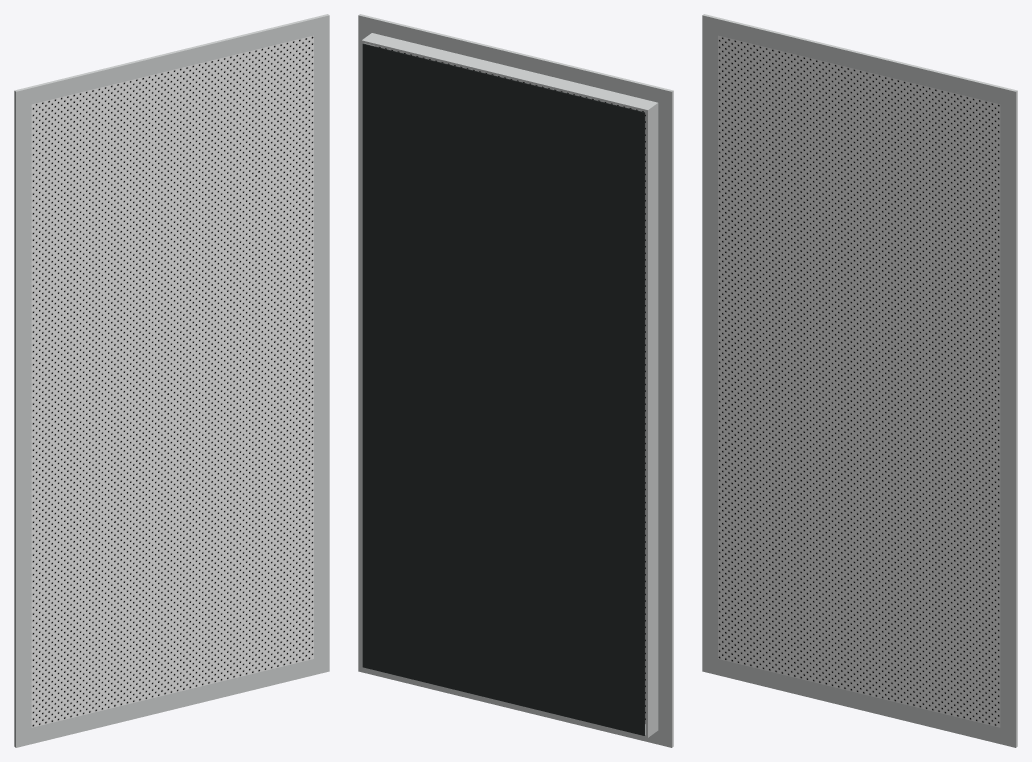
Rendered from ecoclima-egfr-300x600.glb.
3 views of the same model, side by side, from view 1: azimuth 30°, elevation 25°; view 2: azimuth 150°, elevation 25°; view 3: azimuth 330°, elevation 25° (orthographic).
Parts seen in each view (by area): view 1: Profile_lamiera_forata.001, Profile_cornice.115, Profile_cornice.116, Profile_cornice.113, Profile_cornice.114; view 2: Interno.032, Profile_cornice.115, Profile_ritorno.122, Profile_cornice.113, Profile_ritorno.120, Profile_cornice.116, Profile_cornice.114, Profile_ritorno.123, Profile_lamiera_forata.001, Profile_ritorno.121; view 3: Profile_lamiera_forata.001, Profile_cornice.116, Profile_cornice.115, Profile_cornice.113, Profile_cornice.114.
Boxes of the visible parts, box(x1,y1,x2,y2) form: Profile_lamiera_forata.001: box(31, 35, 313, 727); Profile_cornice.115: box(14, 104, 31, 731); Profile_cornice.116: box(314, 32, 329, 658); Profile_cornice.113: box(14, 14, 329, 107); Profile_cornice.114: box(14, 655, 329, 747); Interno.032: box(362, 43, 645, 735); Profile_cornice.115: box(658, 105, 673, 731); Profile_ritorno.122: box(646, 105, 658, 735); Profile_cornice.113: box(358, 14, 673, 107); Profile_ritorno.120: box(361, 33, 658, 112); Profile_cornice.116: box(358, 32, 374, 655); Profile_cornice.114: box(358, 655, 673, 747); Profile_ritorno.123: box(361, 42, 373, 665); Profile_lamiera_forata.001: box(375, 46, 645, 723); Profile_ritorno.121: box(361, 666, 658, 737); Profile_lamiera_forata.001: box(718, 35, 1000, 727); Profile_cornice.116: box(1000, 104, 1017, 731); Profile_cornice.115: box(702, 32, 717, 658); Profile_cornice.113: box(702, 14, 1017, 107); Profile_cornice.114: box(702, 655, 1017, 747).
Bounding box in the file's own units: 0.3 × 0.6 × 0.022.
Materials: 3 (1 with a texture image).
